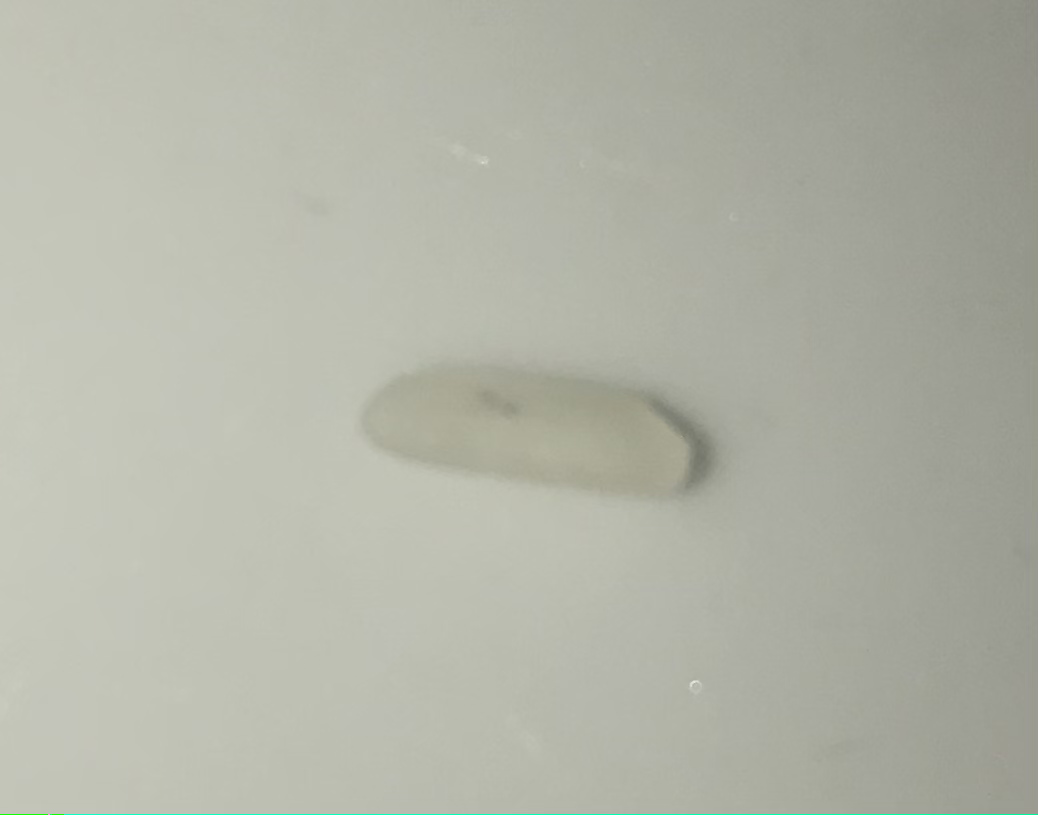Gao Thom Go Cong: (346, 348, 715, 514)
